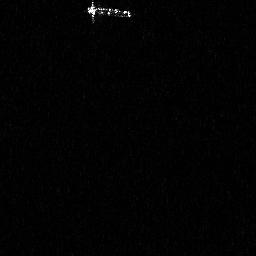ship: (85, 1, 137, 25)
